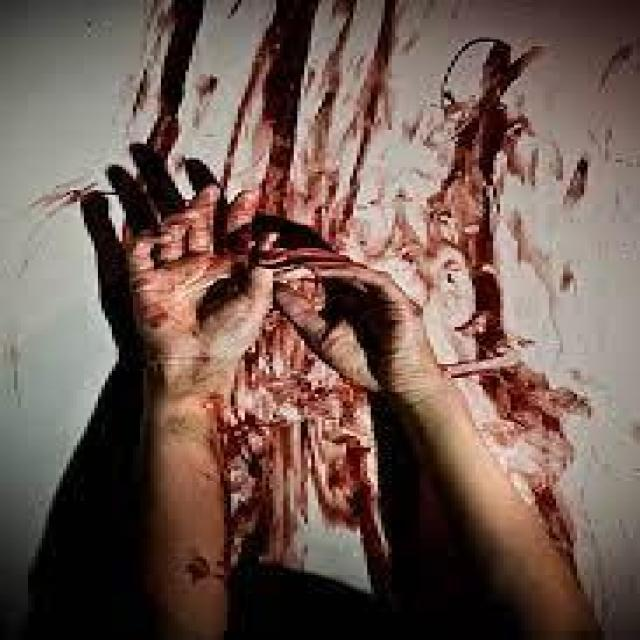flood: (232, 314, 385, 584), (444, 36, 528, 367), (254, 0, 320, 223), (151, 0, 204, 160)
